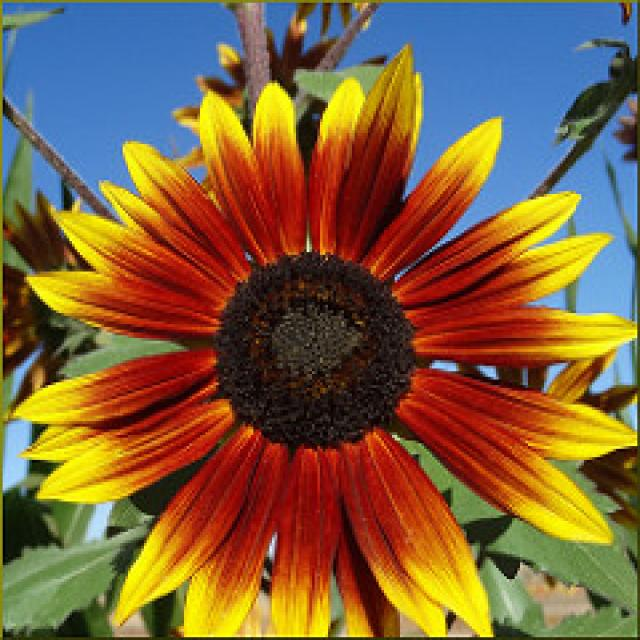sunflower: (18, 60, 640, 640)
